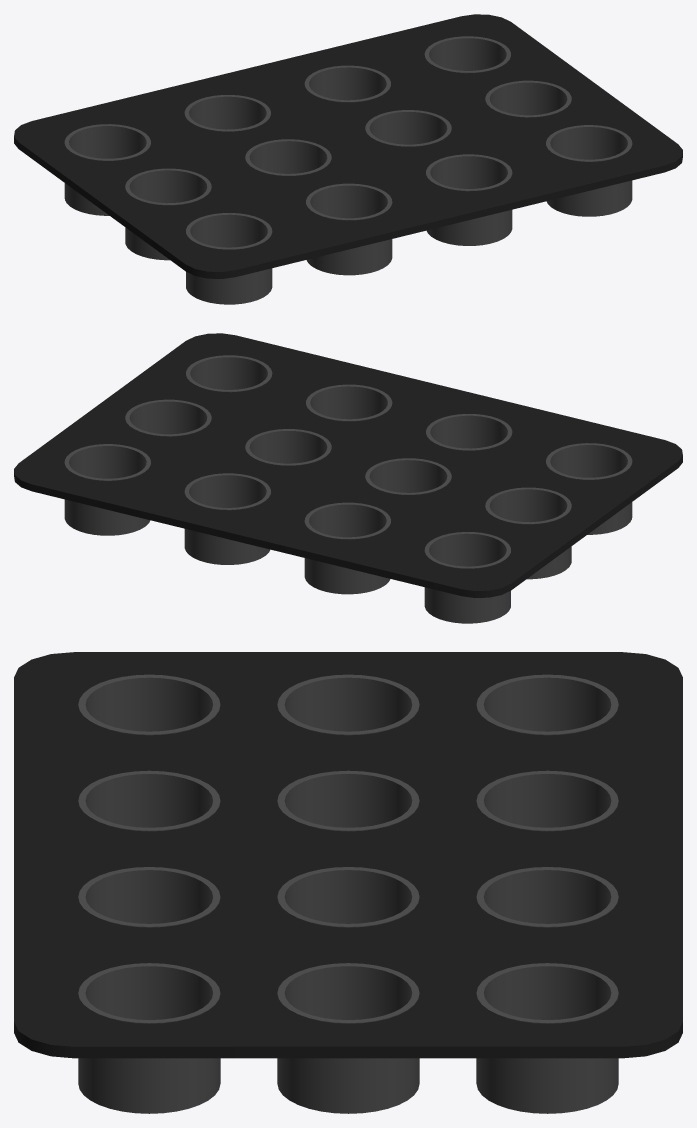
Rendered from tin_muffin.obj.
3 renders of one model, top to bottom at view 1: azimuth 30°, elevation 25°; view 2: azimuth 150°, elevation 25°; view 3: azimuth 270°, elevation 25°, orthographic. The views are drawn at different scales.
Parts seen in each view (by area): view 1: tin_muffin.001; view 2: tin_muffin.001; view 3: tin_muffin.001.
Part boxes in pixels (box(x1,y1,x2,y2)): tin_muffin.001: box(14, 14, 682, 304); tin_muffin.001: box(14, 333, 682, 623); tin_muffin.001: box(14, 652, 682, 1113).
Size of the model in its own units: 0.252 by 0.027 by 0.1805.
